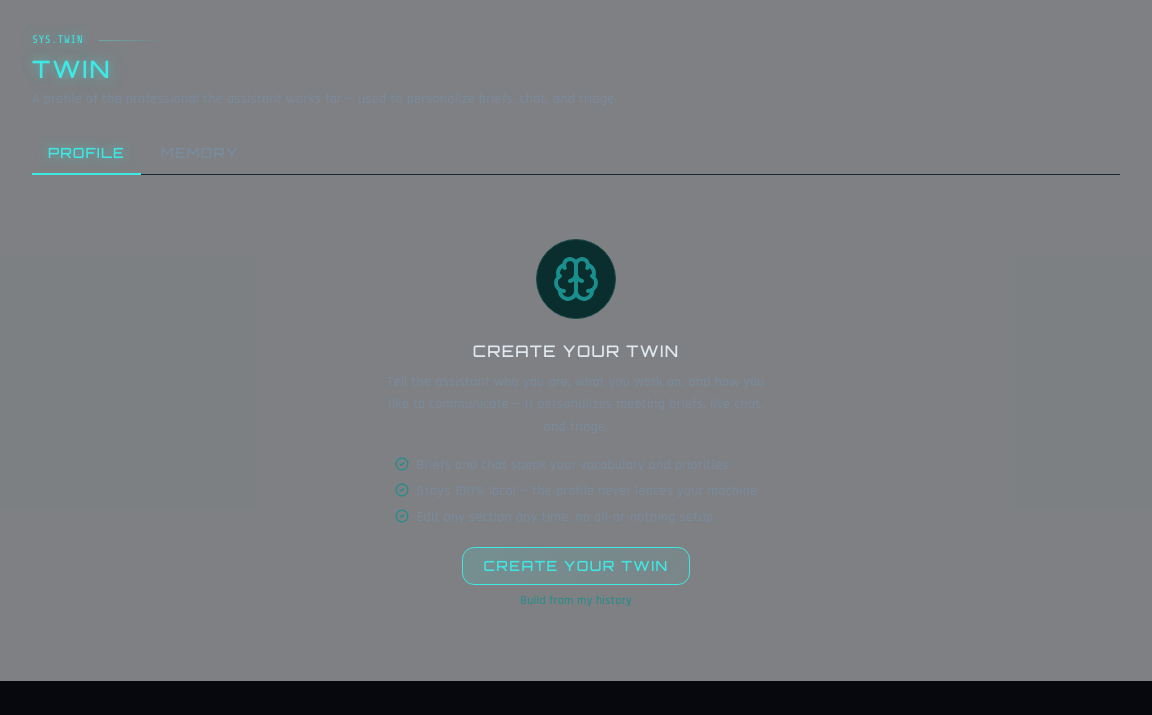
Test: TwinPage — "Build from my history" entry › offers it from the empty state and opens the wizard
The image size is (1152, 715).
Step 1. Click the button "Build from my history" → click(576, 601), box left=520, top=593, right=632, bottom=609
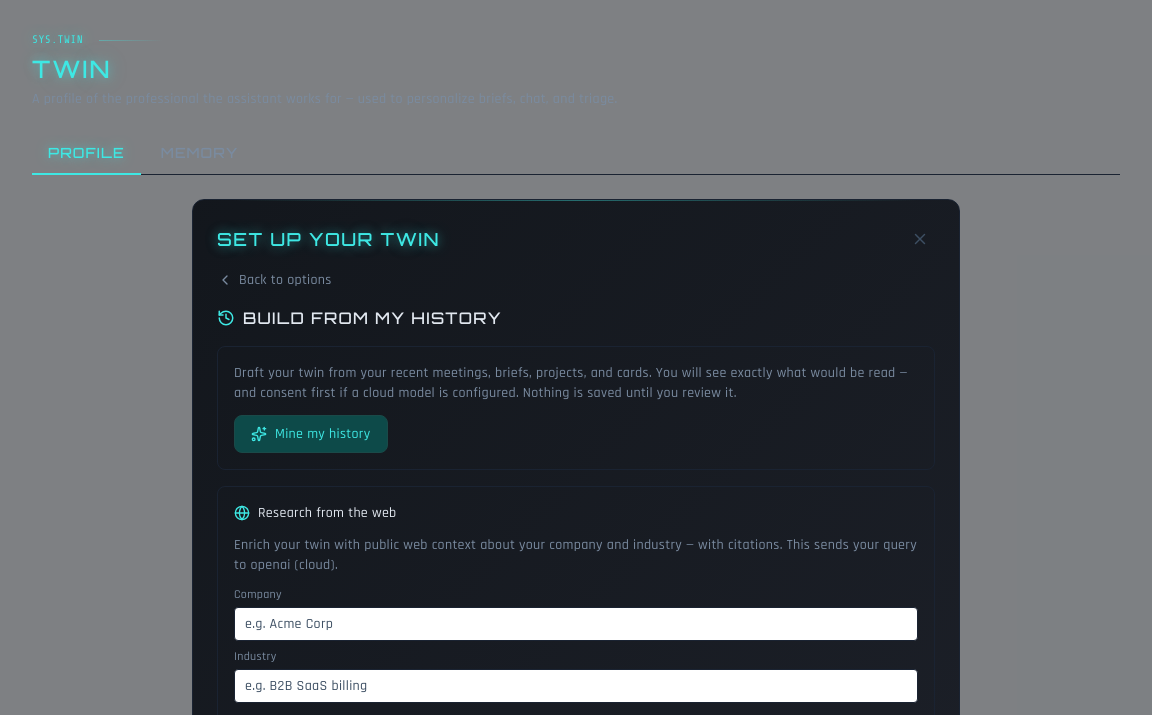
Check: the heading "Set up your twin" is shown, box left=217, top=224, right=440, bottom=252
